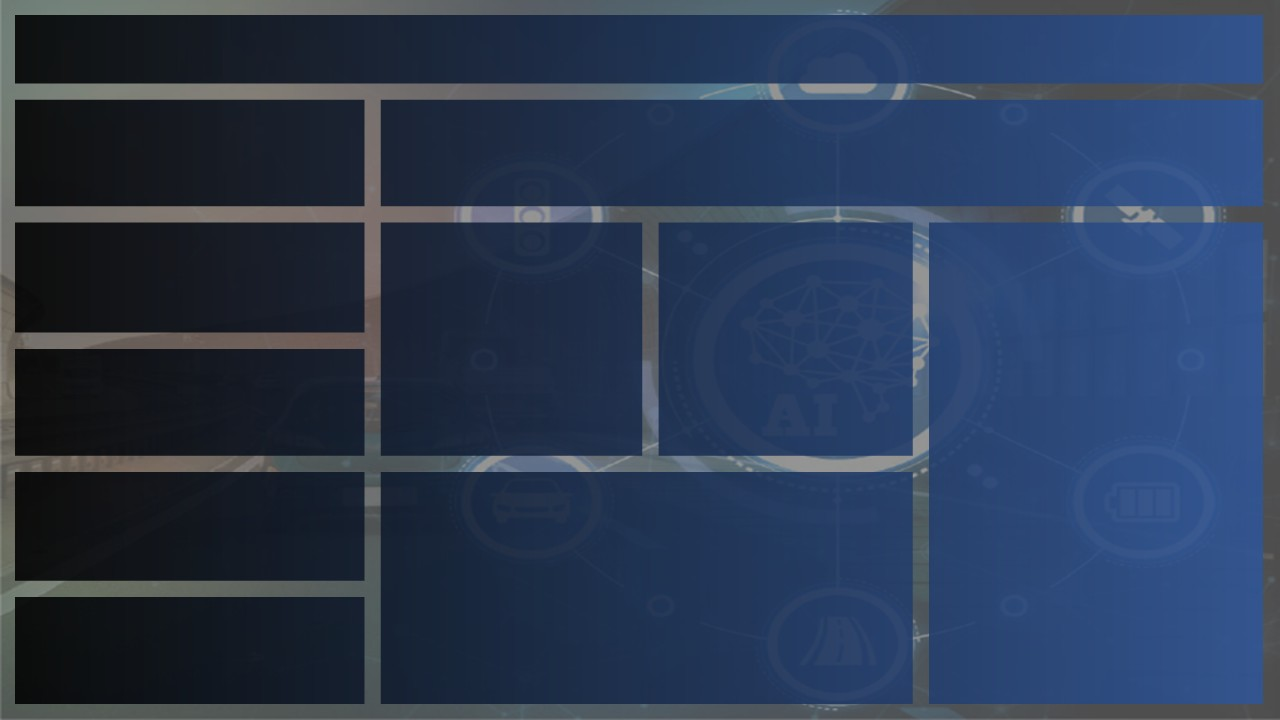

Layout of this report page (visuals, bound fields, positions):
{"tool":"powerbi","page":{"name":"Página 1","canvas":[1920,1080],"ordinal":0},"visuals":[{"type":"card","title":"Total CY Casualties","fields":{"Values":["Measures (2).CY casualties"]},"box":[21.7,141.2,347.5,126.7],"z":0},{"type":"card","fields":{"Values":["Measures (2).YoY Casualties"]},"box":[110.4,255.2,139.3,54.3],"z":1000},{"type":"card","title":"Total CY Accidents","fields":{"Values":["Measures (2).CY Accidents Counts"]},"box":[396.5,138.1,347.5,126.7],"z":2000},{"type":"card","fields":{"Values":["Measures (2).YoY Accidents"]},"box":[485.2,252.1,139.3,54.3],"z":3000},{"type":"card","title":"CY Fatal Casualties","fields":{"Values":["Measures (2).CY casualties"]},"box":[783.1,139.6,347.5,126.7],"z":4000},{"type":"card","fields":{"Values":["Measures (2).YoY Casualties"]},"box":[871.8,253.6,139.3,54.3],"z":5000},{"type":"card","title":"CY Serious Casualties","fields":{"Values":["Measures (2).CY casualties"]},"box":[1168.5,139.7,347.5,126.7],"z":6000},{"type":"card","fields":{"Values":["Measures (2).YoY Casualties"]},"box":[1257.2,253.7,139.3,54.3],"z":7000},{"type":"card","title":"CY Slight Casualties","fields":{"Values":["Measures (2).CY casualties"]},"box":[1545.7,139.8,347.5,126.7],"z":8000},{"type":"card","fields":{"Values":["Measures (2).YoY Casualties"]},"box":[1634.4,253.8,139.3,54.3],"z":9000},{"type":"textbox","box":[21.7,14.5,937.4,99.5],"z":10000},{"type":"multiRowCard","fields":{"Values":["Data.Vehicle_Type (grupos)","Measures (2).CY casualties"]},"box":[181,412.6,204.5,557.4],"z":11000},{"type":"image","box":[70.6,845.1,110.4,88.7],"z":12000},{"type":"image","box":[85.1,589.9,95.9,79.6],"z":13000},{"type":"image","box":[65.1,673.2,124.9,92.3],"z":14000},{"type":"image","box":[61.5,416.2,128.5,86.9],"z":15000},{"type":"image","box":[72.4,765.5,110.4,76],"z":16000},{"type":"image","box":[72.4,503.1,132.1,103.2],"z":17000},{"type":"textbox","box":[47.1,354.7,309.5,45.2],"z":18000},{"type":"areaChart","title":"CY Casualties vs PY Casualties Monthly Trend","fields":{"Category":["Calendar.Month"],"Y":["Sum(Data.Number_of_Casualties)"],"Series":["Calendar.Date.Variación.Jerarquía de fechas.Año"]},"box":[396.3,333,669.6,340.2],"z":19000},{"type":"donutChart","title":"Casualties por Urban / Rural","fields":{"Category":["Data.Urban_or_Rural_Area"],"Y":["Measures (2).CY casualties"]},"box":[1096.7,333,360.1,340.2],"z":20000},{"type":"donutChart","title":"Casualties by light conditions","fields":{"Y":["Measures (2).CY casualties"],"Category":["Data.Light_Conditions (grupos) 2"]},"box":[1096.7,704,360.1,340.2],"z":21000},{"type":"barChart","title":"Casualties by Road Type","fields":{"Category":["Data.Road_Type"],"Y":["Measures (2).CY casualties"]},"box":[396.3,704,669.6,340.2],"z":22000},{"type":"map","title":"Casualty by Location","fields":{"Y":["Data.Latitude"],"X":["Data.Longitude"],"Category":["Data.Local_Authority_(District)"]},"box":[1485.7,333,407.2,711.2],"z":23000},{"type":"slicer","fields":{"Values":["Data.Weather_Conditions (grupos)"]},"box":[1596.1,25.3,284.1,81.4],"z":24000},{"type":"slicer","fields":{"Values":["Data.Road_Surface_Conditions (grupos)"]},"box":[1312,25.3,284.1,81.4],"z":25000}]}

Visuals, with their boxes in screenshot pixels (x1, y1, x2, y2), scaled from the page's 1920x1080 canvas onto the 1280x720 screenshot:
"Total CY Casualties" card: crop(14, 94, 246, 179)
card - Measures (2).YoY Casualties: crop(74, 170, 166, 206)
"Total CY Accidents" card: crop(264, 92, 496, 177)
card - Measures (2).YoY Accidents: crop(323, 168, 416, 204)
"CY Fatal Casualties" card: crop(522, 93, 754, 178)
card - Measures (2).YoY Casualties: crop(581, 169, 674, 205)
"CY Serious Casualties" card: crop(779, 93, 1011, 178)
card - Measures (2).YoY Casualties: crop(838, 169, 931, 205)
"CY Slight Casualties" card: crop(1030, 93, 1262, 178)
card - Measures (2).YoY Casualties: crop(1090, 169, 1182, 205)
textbox: crop(14, 10, 639, 76)
multiRowCard - Data.Vehicle_Type (grupos) x Measures (2).CY casualties: crop(121, 275, 257, 647)
image: crop(47, 563, 121, 623)
image: crop(57, 393, 121, 446)
image: crop(43, 449, 127, 510)
image: crop(41, 277, 127, 335)
image: crop(48, 510, 122, 561)
image: crop(48, 335, 136, 404)
textbox: crop(31, 236, 238, 267)
"CY Casualties vs PY Casualties Monthly Trend" areaChart: crop(264, 222, 711, 449)
"Casualties por Urban / Rural" donutChart: crop(731, 222, 971, 449)
"Casualties by light conditions" donutChart: crop(731, 469, 971, 696)
"Casualties by Road Type" barChart: crop(264, 469, 711, 696)
"Casualty by Location" map: crop(990, 222, 1262, 696)
slicer - Data.Weather_Conditions (grupos): crop(1064, 17, 1253, 71)
slicer - Data.Road_Surface_Conditions (grupos): crop(875, 17, 1064, 71)
